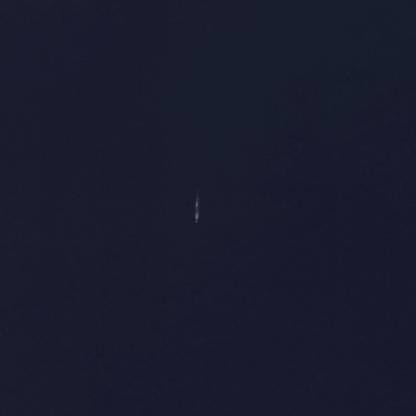ship: (24, 22, 35, 60)
